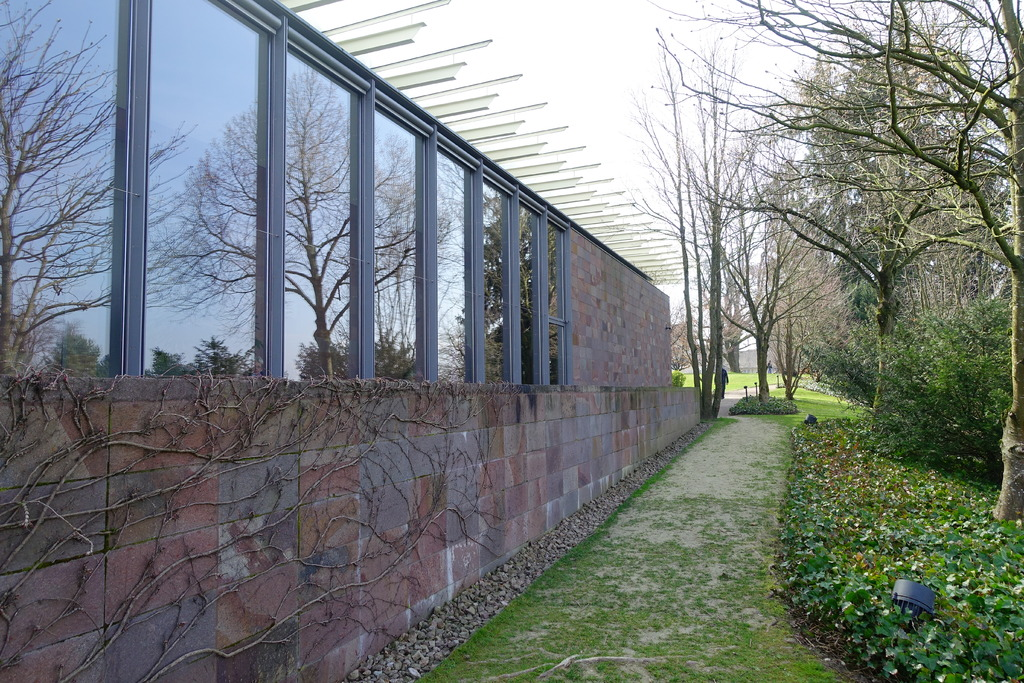Tree: (728, 0, 1022, 524), (653, 23, 987, 419), (629, 0, 797, 424)
